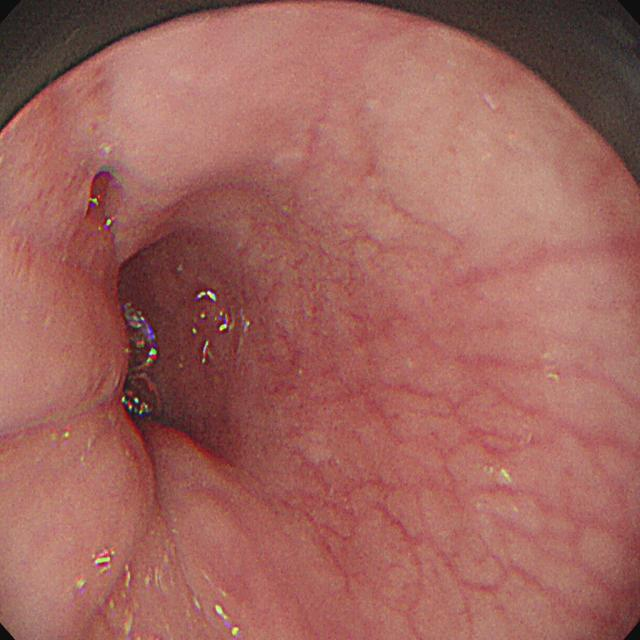A: (250, 247, 348, 441)
E: (94, 232, 240, 470)
U: (77, 545, 244, 640), (126, 306, 161, 425), (88, 165, 126, 237), (192, 289, 230, 337)
